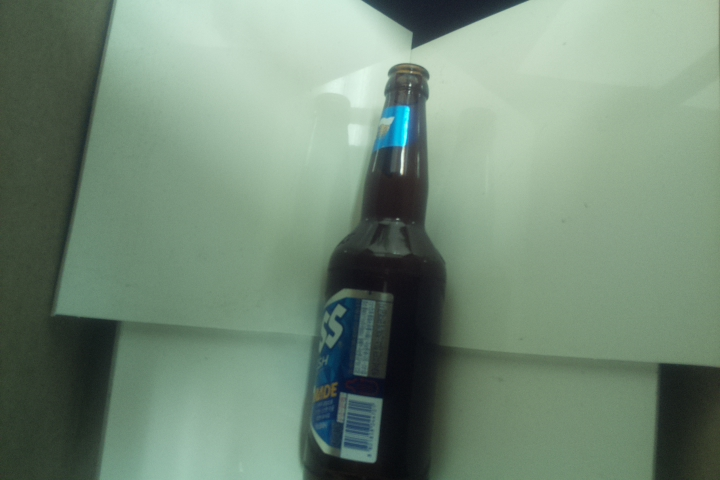makju: (297, 63, 449, 480)
